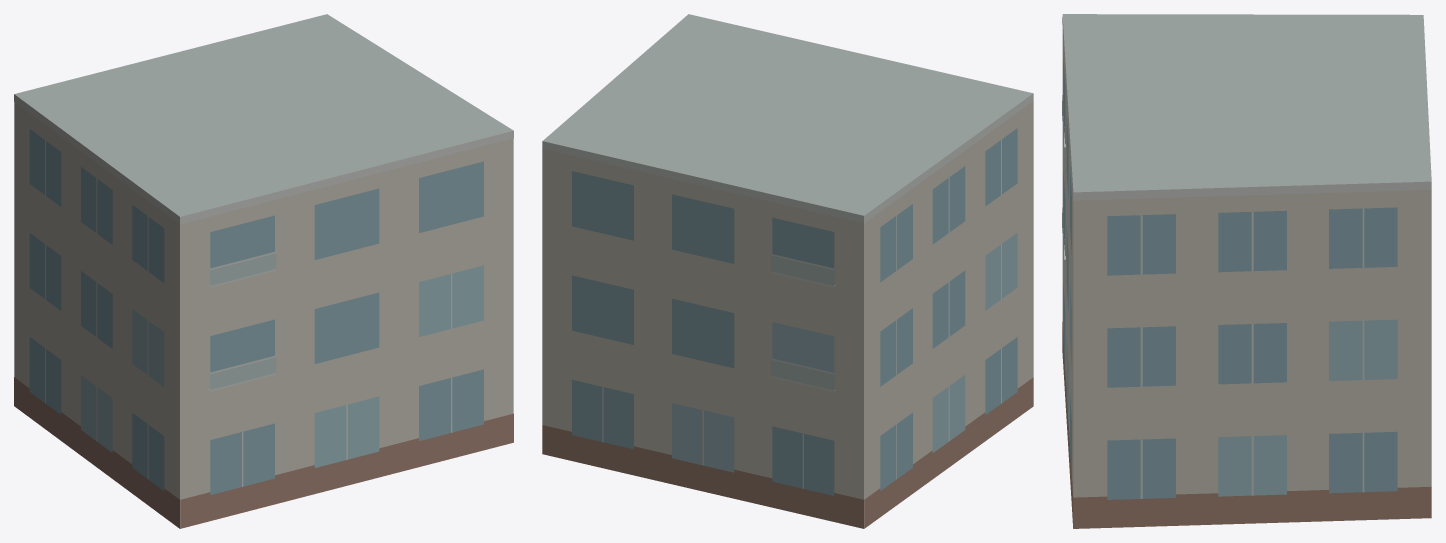
Rendered from survey-upis-32833166.glb.
3 views of the same model, side by side, from view 1: azimuth 30°, elevation 25°; view 2: azimuth 150°, elevation 25°; view 3: azimuth 270°, elevation 25° (orthographic). The views are drawn at different scales.
Visible parts, largest first — view 1: survey-upis-32833166.tmp; view 2: survey-upis-32833166.tmp; view 3: survey-upis-32833166.tmp.
Part boxes in pixels (box(x1,y1,x2,y2)): survey-upis-32833166.tmp: box(14, 14, 513, 528); survey-upis-32833166.tmp: box(542, 14, 1033, 528); survey-upis-32833166.tmp: box(1062, 14, 1431, 528).
Bounding box in the file's own units: 11.47 × 10.08 × 10.04.
